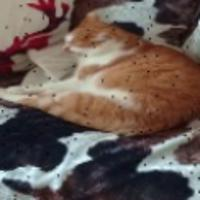asleep: (0, 8, 200, 134)
